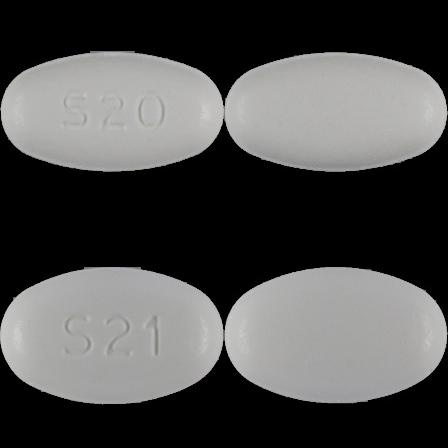0440-8055: (0, 0, 224, 224)
